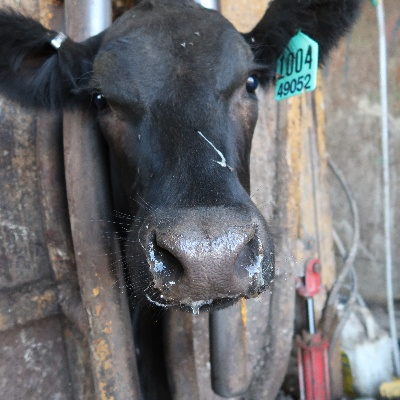fidget_spinner: (137, 212, 275, 314)
